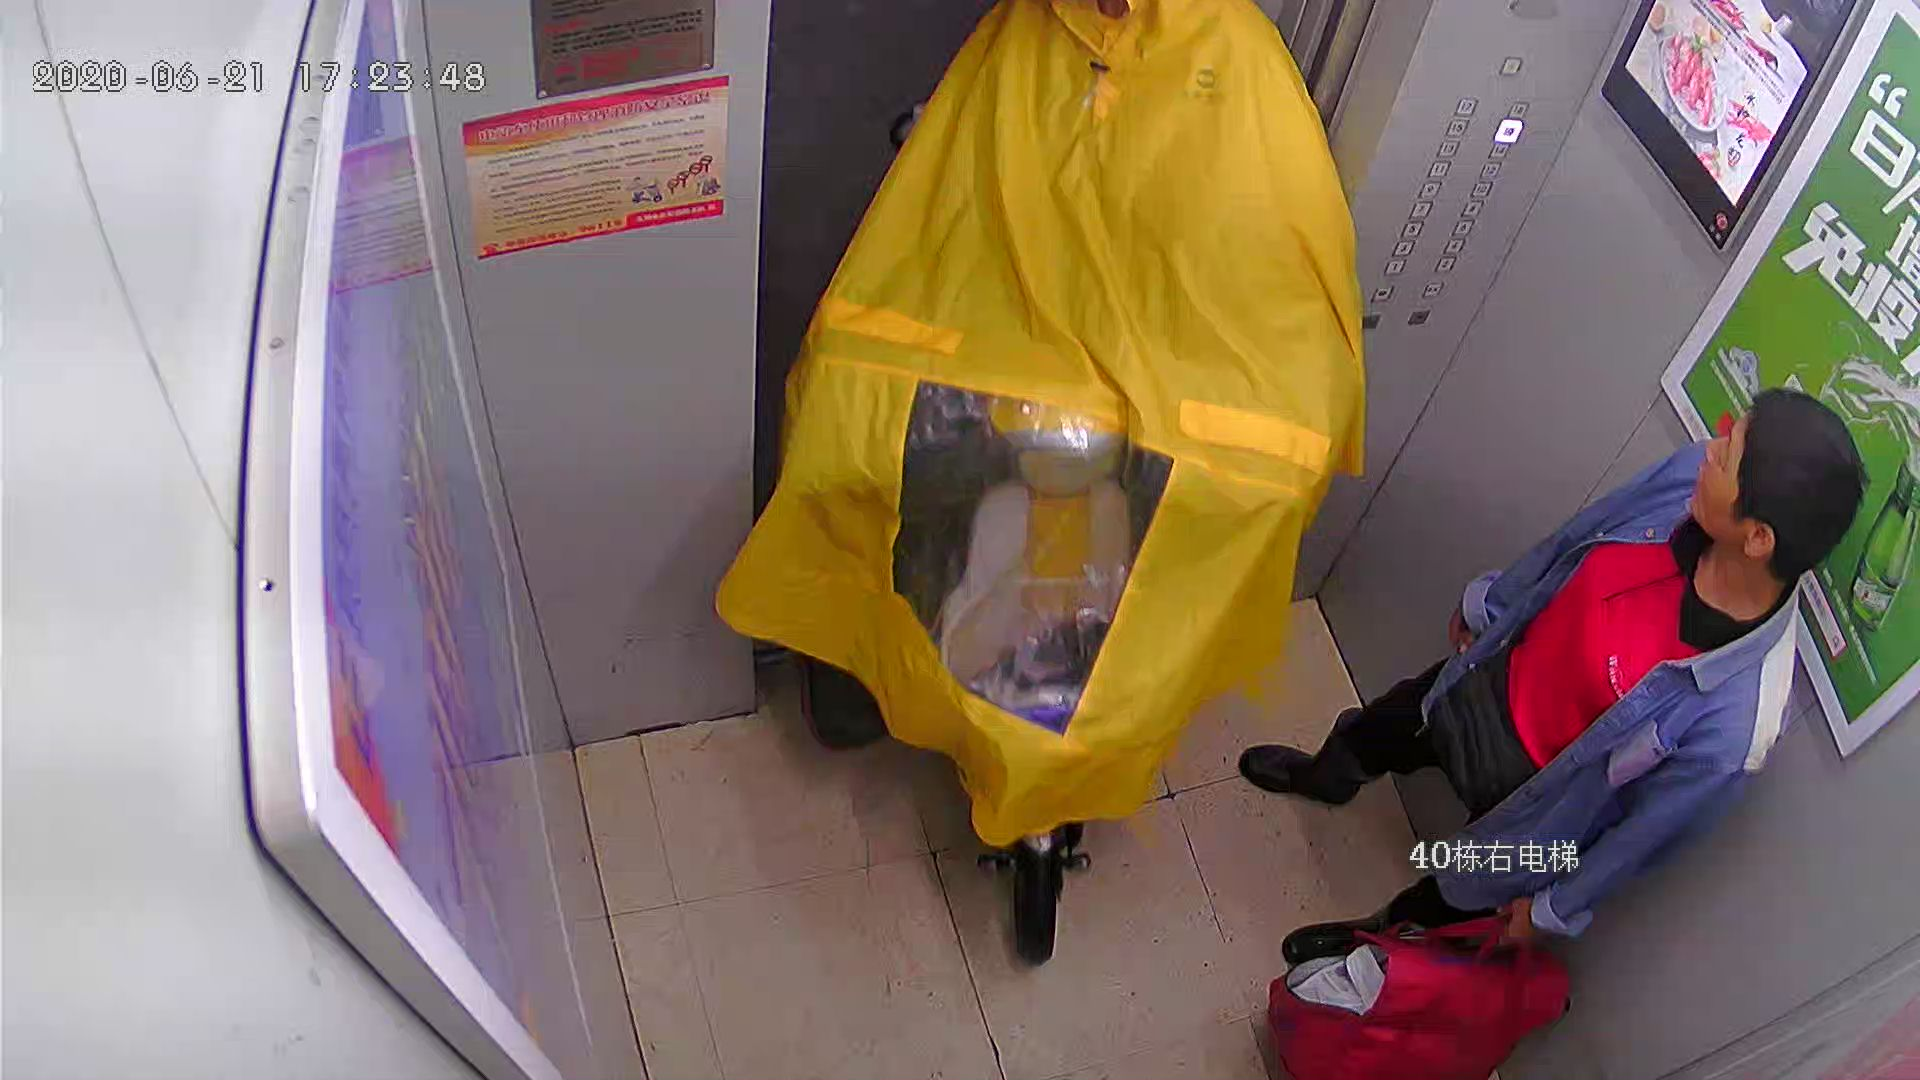Electric-bicycle: (787, 245, 1257, 967)
